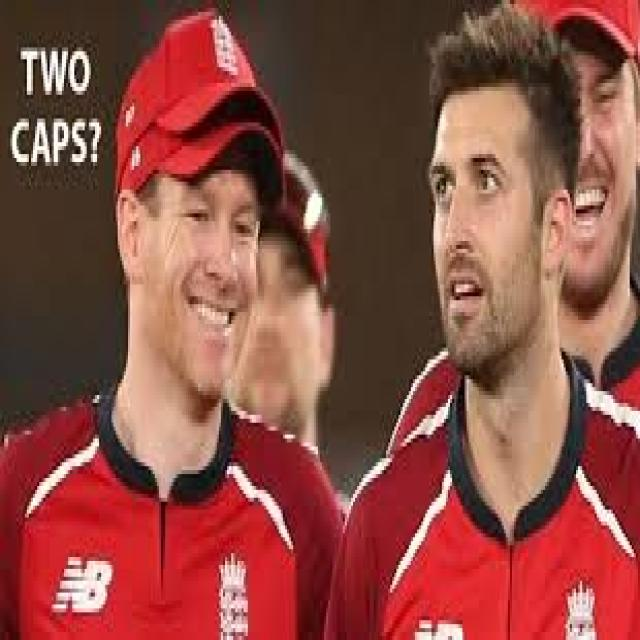cap: (105, 4, 291, 288), (551, 0, 638, 158)
